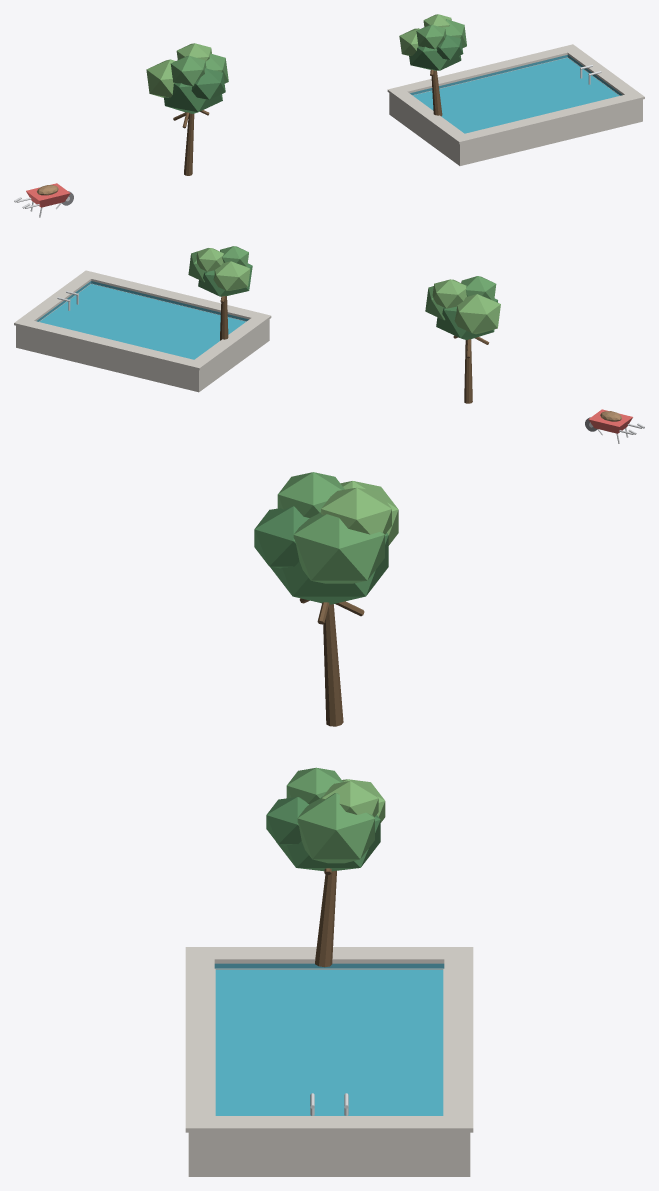
The model's file is props.glb.
3 renders of one model, top to bottom at view 1: azimuth 30°, elevation 25°; view 2: azimuth 150°, elevation 25°; view 3: azimuth 270°, elevation 25°, orthographic. The views are drawn at different scales.
Parts seen in each view (by area): view 1: Pool_Water, Pool_SkirtS, Pool_CopingS, Pool_CopingN, Pool_SkirtW, Pool_CopingE, Pool_CopingW, Tree_A_Canopy0, Tree_A_Canopy2, Tree_A_Canopy4, Tree_A_Canopy3, Tree_B_Canopy0 (+10 smaller); view 2: Pool_Water, Pool_SkirtN, Pool_CopingN, Pool_CopingS, Tree_A_Canopy2, Pool_SkirtW, Pool_CopingE, Pool_CopingW, Tree_B_Canopy2, Tree_A_Canopy5, Tree_A_Canopy0, Tree_A_Canopy4 (+9 smaller); view 3: Pool_Water, Pool_SkirtE, Pool_CopingS, Pool_CopingN, Tree_A_Canopy1, Pool_CopingE, Pool_CopingW, Tree_B_Canopy1, Tree_A_Canopy5, Tree_A_Canopy0, Tree_A_Canopy3, Tree_A_Canopy4 (+9 smaller).
Part boxes in pixels (x1,y1,x2,y2): Pool_Water: (413, 58, 619, 133); Pool_SkirtS: (454, 99, 642, 165); Pool_CopingS: (452, 94, 644, 143); Pool_CopingN: (387, 44, 575, 96); Pool_SkirtW: (395, 97, 453, 161); Pool_CopingE: (561, 44, 644, 101); Pool_CopingW: (388, 87, 471, 143); Tree_A_Canopy0: (164, 83, 222, 113); Tree_A_Canopy2: (146, 59, 175, 97); Tree_A_Canopy4: (170, 55, 206, 86); Tree_A_Canopy3: (191, 68, 225, 99); Tree_B_Canopy0: (409, 46, 461, 70); Pool_Water: (40, 284, 245, 359); Pool_SkirtN: (16, 325, 204, 392); Pool_CopingN: (14, 320, 206, 370); Pool_CopingS: (79, 271, 271, 322); Tree_A_Canopy2: (454, 294, 500, 334); Pool_SkirtW: (205, 324, 263, 387); Pool_CopingE: (14, 270, 97, 327); Pool_CopingW: (187, 313, 271, 369); Tree_B_Canopy2: (213, 261, 250, 290); Tree_A_Canopy5: (432, 279, 467, 308); Tree_A_Canopy0: (436, 298, 497, 340); Tree_A_Canopy4: (461, 276, 496, 300); Pool_Water: (215, 969, 443, 1115); Pool_SkirtE: (212, 1132, 446, 1176); Pool_CopingS: (185, 947, 214, 1129); Pool_CopingN: (444, 947, 473, 1129); Tree_A_Canopy1: (293, 512, 384, 583); Pool_CopingE: (185, 1116, 473, 1132); Pool_CopingW: (185, 947, 473, 963); Tree_B_Canopy1: (297, 793, 374, 863); Tree_A_Canopy5: (321, 487, 391, 534); Tree_A_Canopy0: (270, 533, 388, 604); Tree_A_Canopy3: (254, 506, 309, 568); Tree_A_Canopy4: (277, 472, 344, 517).
Bounding box in the file's own units: 29.02 × 6.88 × 6.12.
